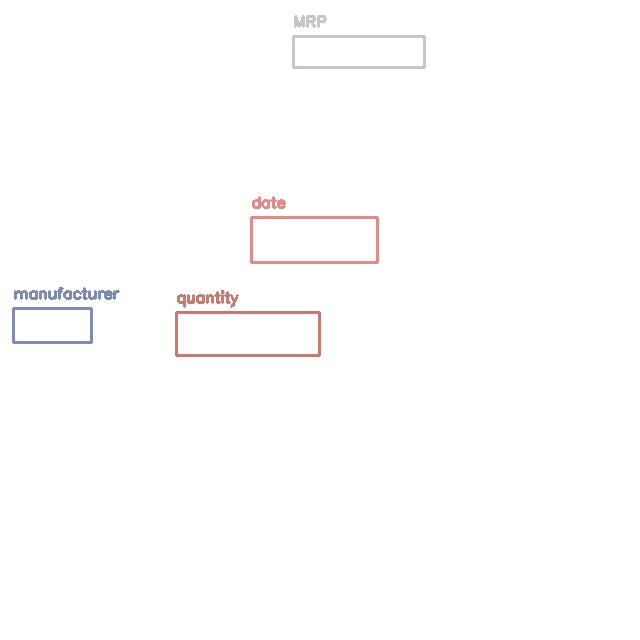MRP: (293, 36, 424, 67)
date: (251, 217, 377, 262)
manufacturer: (13, 308, 91, 342)
quantity: (176, 312, 319, 355)
